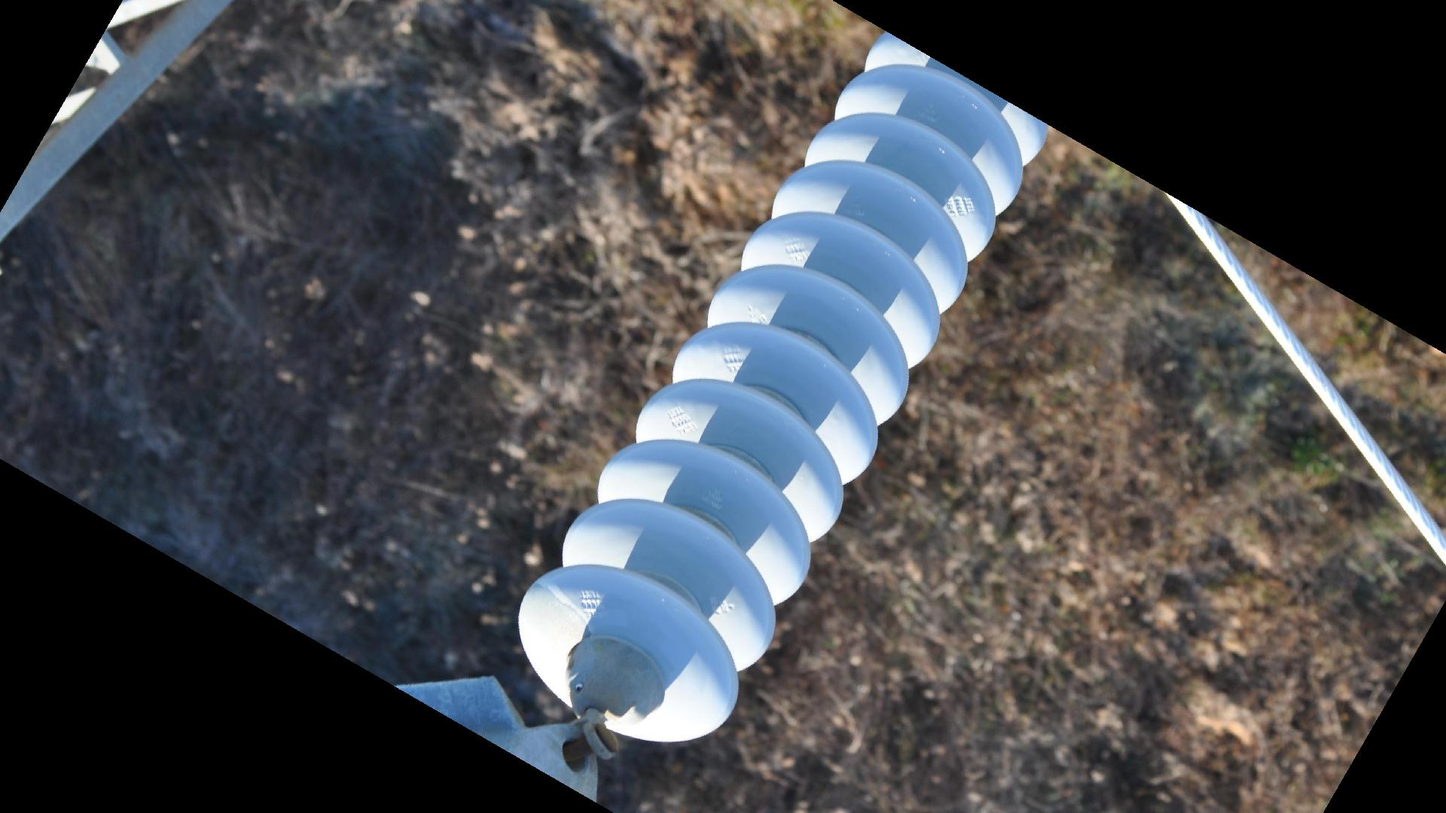insulator: (513, 28, 1054, 753)
insulator_flashover: (515, 581, 592, 677)
